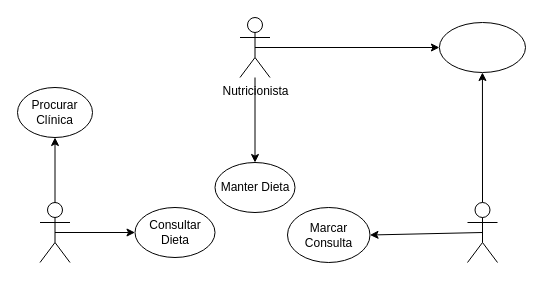
Some shapes in this 543 by 301 pixel diagram are drawn without their labels. The shapes that lost their labels are listed below. From the top down, each one's centre as x and y in pixels, then its label:
At pixel 482 47: "Manter Cliente".
At pixel 54 232: "Cliente".
At pixel 482 232: "Recepcionista".
